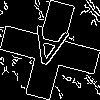A: (25, 25, 69, 78)
